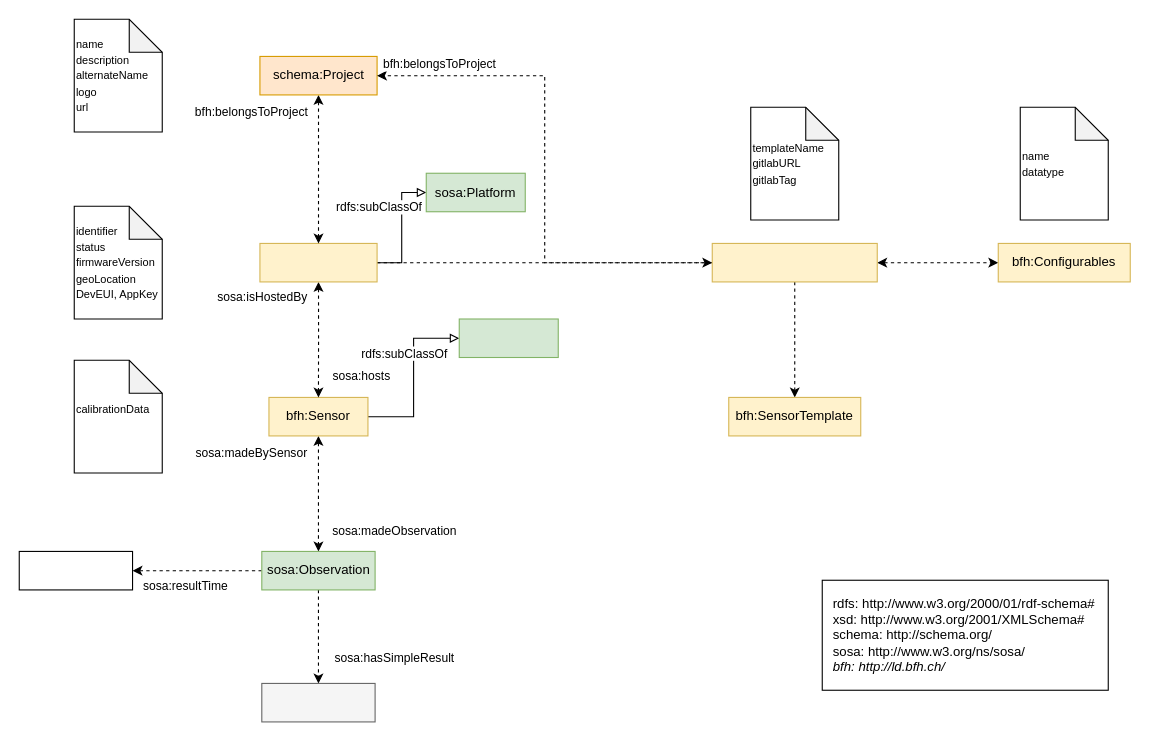
Image size: 1150x741. Some labels were removed from this diagram. The shapes that lost their labels are listed below. From the top down, each one's centre as x and y in pixels, then its label:
point (318, 262): bfh:SensorNode
point (794, 262): bfh:SensorNodeTemplate
point (508, 338): sosa:Sensor
point (75, 570): xsd:dateTime
point (318, 702): rdfs:Literal
